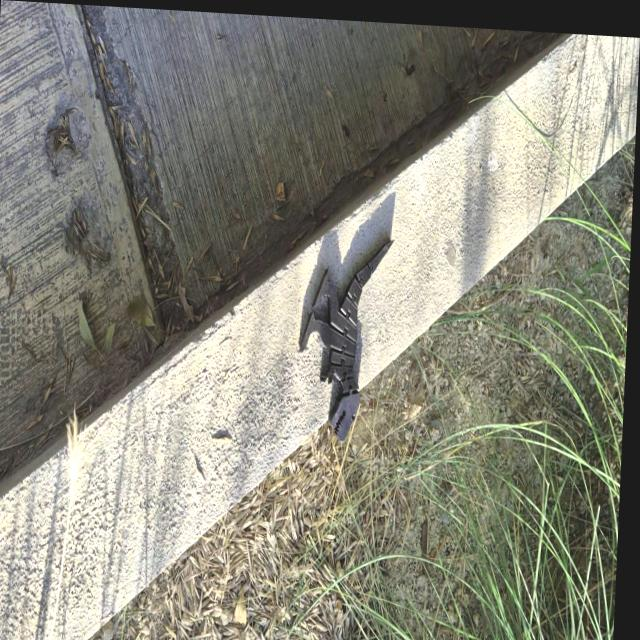dino: (292, 233, 394, 445)
